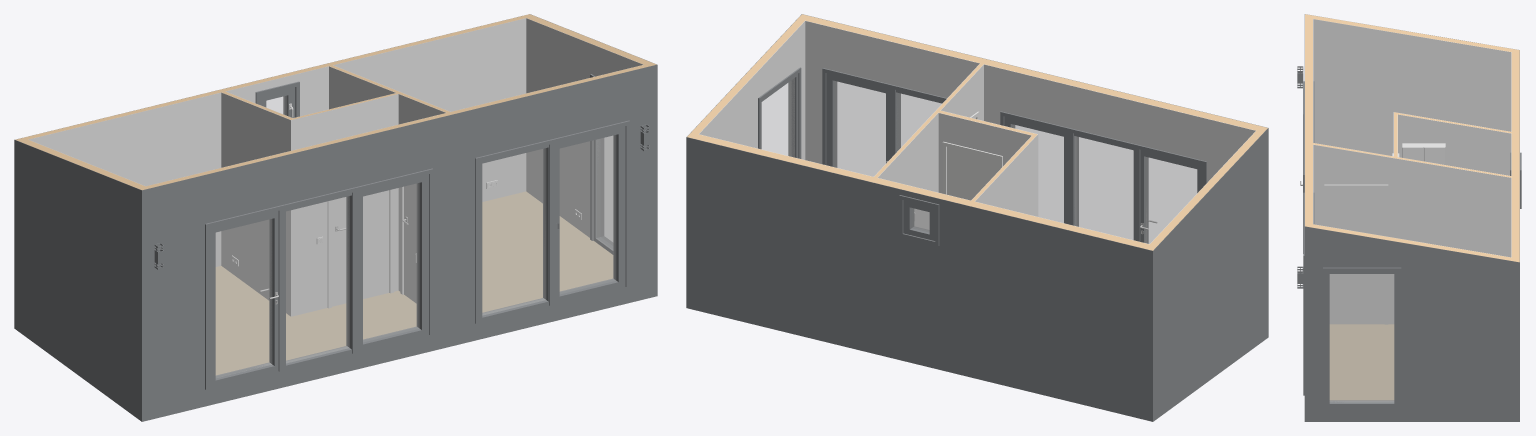
File: Ireland_hairdressing saloon_(3,0x7,0m)_R00.fbx
3 views of the same model, side by side, from view 1: azimuth 30°, elevation 25°; view 2: azimuth 150°, elevation 25°; view 3: azimuth 270°, elevation 25° (orthographic). The views are drawn at different scales.
Visible parts, largest first — view 1: IfcWall/Part:2319977, IfcWall/Part:2368366, IfcWall/Part:2397154, IfcSlab/Part:2319985, IfcWindow/Langai (Akrusta):1000x2100x120 (dešininis):2409843, IfcWindow/Langai (Akrusta):1000x2100x120 (kairinis):2572630, IfcWindow/Langai (Akrusta):1000x2100x120:2572717, IfcDoor/Exterior door:1000x2100x120 (kairinės):2439432, IfcWindow/Langai (Akrusta):1000x2100x120:2572804, IfcWall/Part:2568958, IfcWall/Part:2569024, IfcWall/Part:2571366 (+10 smaller); view 2: IfcWall/Part:2397155, IfcWall/Part:2368366, IfcWall/Part:2319976, IfcWindow/Langai (Akrusta):1000x2100x120:2572804, IfcWindow/Langai (Akrusta):1000x2100x120 (kairinis):2572630, IfcDoor/Exterior door:1000x2100x120 (kairinės):2439432, IfcWall/Part:2568958, IfcWindow/Langai (Akrusta):1000x2100x120 (dešininis):2409843, IfcWindow/Langai (Akrusta):1000x2100x120:2572504, IfcWall/Part:2397156, IfcWall/Part:2319978, IfcWall/Part:2569827 (+10 smaller); view 3: IfcWall/Part:2568959, IfcWall/Part:2368365, IfcWall/Part:2569021, IfcWindow/Langai (Akrusta):1000x2100x120:2572504, IfcDoor/Interior door:800x2100 x 120 (kairinės):2571701, IfcSlab/Part:2319985, IfcWall/Part:2571367, IfcWall/Part:2397156, IfcWall/Part:2319978, IfcFurnishingElement/Sanitary_Mirrors_Roca_LUNA-600-Mirror-c, IfcWall/Part:2568960, IfcWall/Part:2368367 (+6 smaller).
Boxes of the visible parts, box(x1,y1,x2,y2) form: IfcWall/Part:2319977: box(141, 64, 657, 421); IfcWall/Part:2368366: box(14, 140, 141, 421); IfcWall/Part:2397154: box(28, 18, 526, 266); IfcSlab/Part:2319985: box(215, 191, 613, 375); IfcWindow/Langai (Akrusta):1000x2100x120 (dešininis):2409843: box(346, 168, 433, 353); IfcWindow/Langai (Akrusta):1000x2100x120 (kairinis):2572630: box(543, 120, 629, 305); IfcWindow/Langai (Akrusta):1000x2100x120:2572717: box(475, 138, 556, 323); IfcDoor/Exterior door:1000x2100x120 (kairinės):2439432: box(205, 204, 285, 389); IfcWindow/Langai (Akrusta):1000x2100x120:2572804: box(278, 187, 359, 371); IfcWall/Part:2568958: box(526, 18, 643, 237); IfcWall/Part:2569024: box(291, 94, 398, 316); IfcWall/Part:2571366: box(221, 92, 291, 316); IfcWall/Part:2397155: box(686, 137, 1153, 421); IfcWall/Part:2368366: box(1153, 128, 1268, 421); IfcWall/Part:2319976: box(805, 20, 1255, 182); IfcWindow/Langai (Akrusta):1000x2100x120:2572804: box(1067, 128, 1140, 241); IfcWindow/Langai (Akrusta):1000x2100x120 (kairinis):2572630: box(822, 68, 900, 176); IfcDoor/Exterior door:1000x2100x120 (kairinės):2439432: box(1133, 145, 1206, 243); IfcWall/Part:2568958: box(699, 21, 805, 159); IfcWindow/Langai (Akrusta):1000x2100x120 (dešininis):2409843: box(1000, 111, 1078, 226); IfcWindow/Langai (Akrusta):1000x2100x120:2572504: box(758, 67, 801, 158); IfcWall/Part:2397156: box(687, 132, 1156, 250); IfcWall/Part:2319978: box(798, 14, 1267, 132); IfcWall/Part:2569827: box(877, 113, 938, 229); IfcWall/Part:2568959: box(1305, 226, 1519, 421); IfcWall/Part:2368365: box(1313, 19, 1511, 155); IfcWall/Part:2569021: box(1313, 144, 1511, 324); IfcWindow/Langai (Akrusta):1000x2100x120:2572504: box(1323, 267, 1401, 407); IfcDoor/Interior door:800x2100 x 120 (kairinės):2571701: box(1324, 184, 1388, 324); IfcSlab/Part:2319985: box(1329, 324, 1394, 400); IfcWall/Part:2571367: box(1398, 114, 1511, 175); IfcWall/Part:2397156: box(1511, 49, 1519, 262); IfcWall/Part:2319978: box(1305, 14, 1312, 227); IfcFurnishingElement/Sanitary_Mirrors_Roca_LUNA-600-Mirror-c: box(1402, 143, 1445, 164); IfcWall/Part:2568960: box(1313, 224, 1511, 260); IfcWall/Part:2368367: box(1313, 15, 1511, 51).
Bounding box in the file's own units: 702 × 300 × 312.
